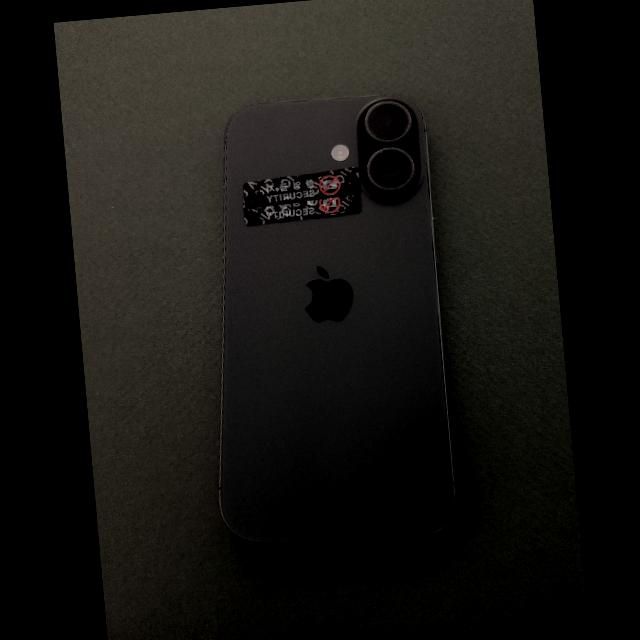lens: (366, 148, 412, 190), (365, 102, 408, 140)
phone: (219, 95, 455, 543)
sticker: (242, 167, 361, 226)
